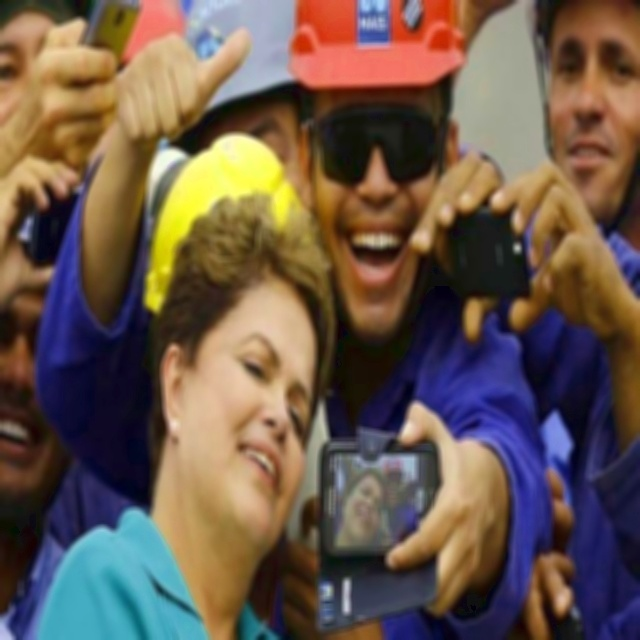Con_Casco: (292, 0, 467, 187)
